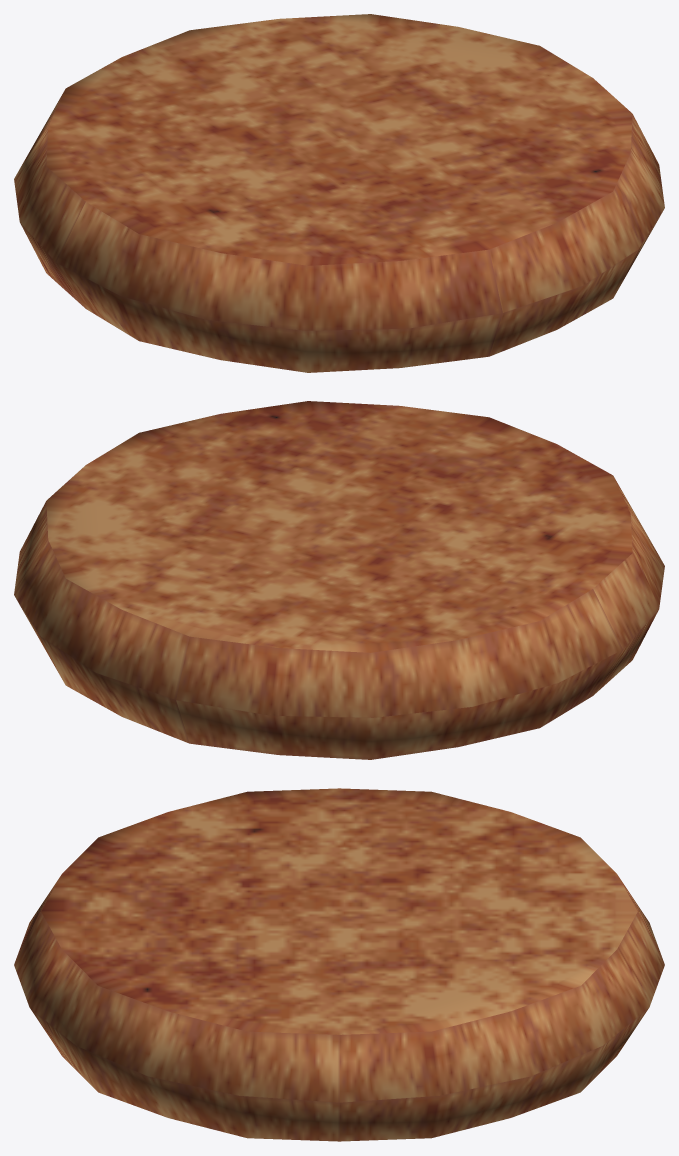
The model's file is Cocinada.obj.
The picture shows the model from 3 angles, top to bottom: view 1: azimuth 30°, elevation 25°; view 2: azimuth 150°, elevation 25°; view 3: azimuth 270°, elevation 25°; orthographic projection.
Parts seen in each view (by area): view 1: Cocinada:pCylinder2; view 2: Cocinada:pCylinder2; view 3: Cocinada:pCylinder2.
Boxes of the visible parts, bbox=[...] form: Cocinada:pCylinder2: bbox=[14, 14, 664, 372]; Cocinada:pCylinder2: bbox=[14, 401, 664, 759]; Cocinada:pCylinder2: bbox=[14, 788, 664, 1141].
Bounding box in the file's own units: 0.0653 × 0.0138 × 0.0652.
Materials: 1 (1 with a texture image).
